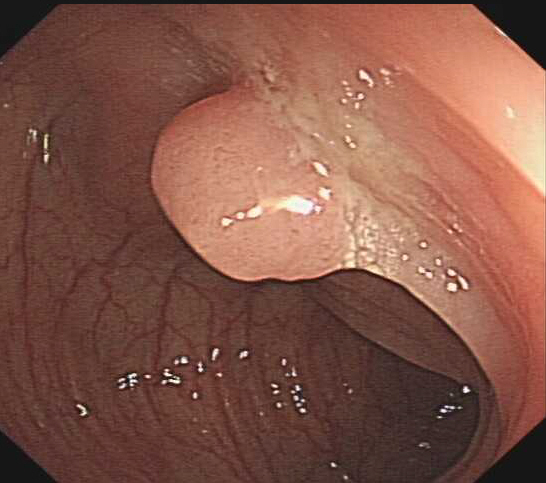adenoma: (147, 84, 361, 286)
